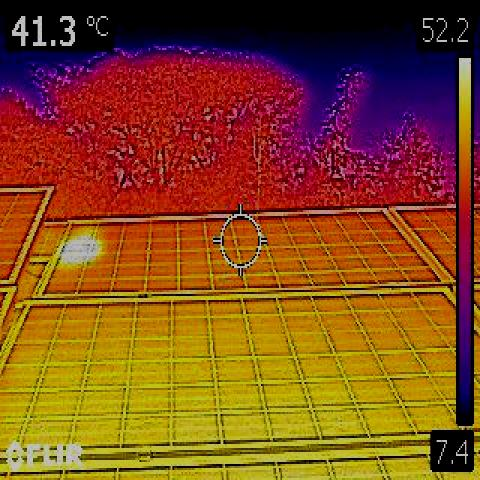fault: (63, 232, 98, 268)
